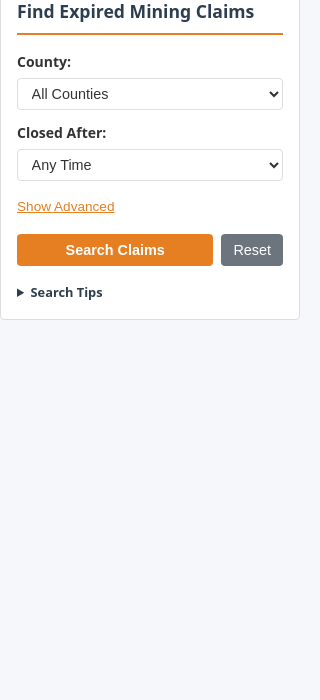
Test: SearchPanel › shows advanced options when toggle is clicked
Click the button "Show Advanced".
click(66, 207)  # box [17,200,114,214]
(page scrolled)
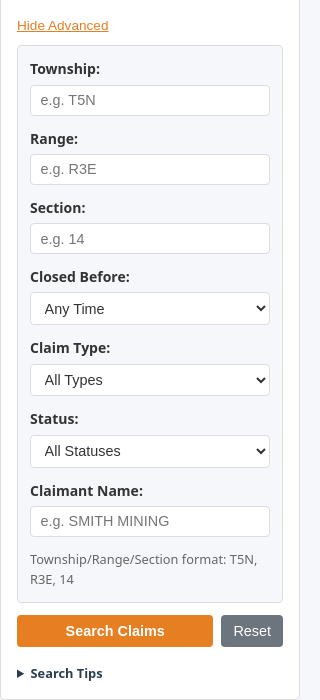
Expected: the field labelled "Township:" is shown, [30,85,270,116]
Expected: the dropdown labelled "Claim Type:" is shown, [30,364,270,396]
Expected: the dropdown labelled "Status:" is shown, [30,435,270,468]
